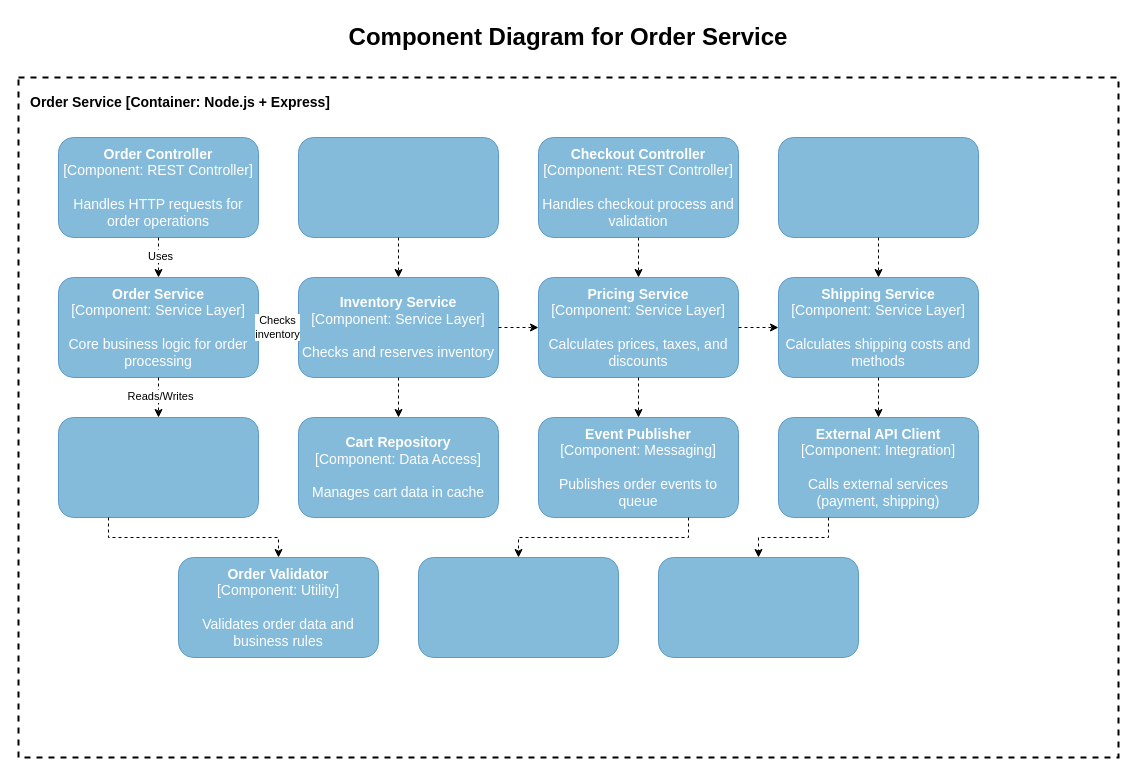
The diagram is 1136 pixels wide and 775 high, and some of its shapes have lost their labels. The shapes that lost their labels are listed below. From the top down, each one's box as (x1, y1, x2, y2) in pixels, then its label:
(298, 136, 498, 238): Cart Controller [Component: REST Controller] Manages shopping cart operations
(778, 136, 978, 238): Return Controller [Component: REST Controller] Manages order returns and refunds
(58, 416, 258, 518): Order Repository [Component: Data Access] Manages order data persistence
(418, 556, 618, 658): Logger [Component: Utility] Structured logging and monitoring
(658, 556, 858, 658): Auth Middleware [Component: Security] JWT validation and authorization
